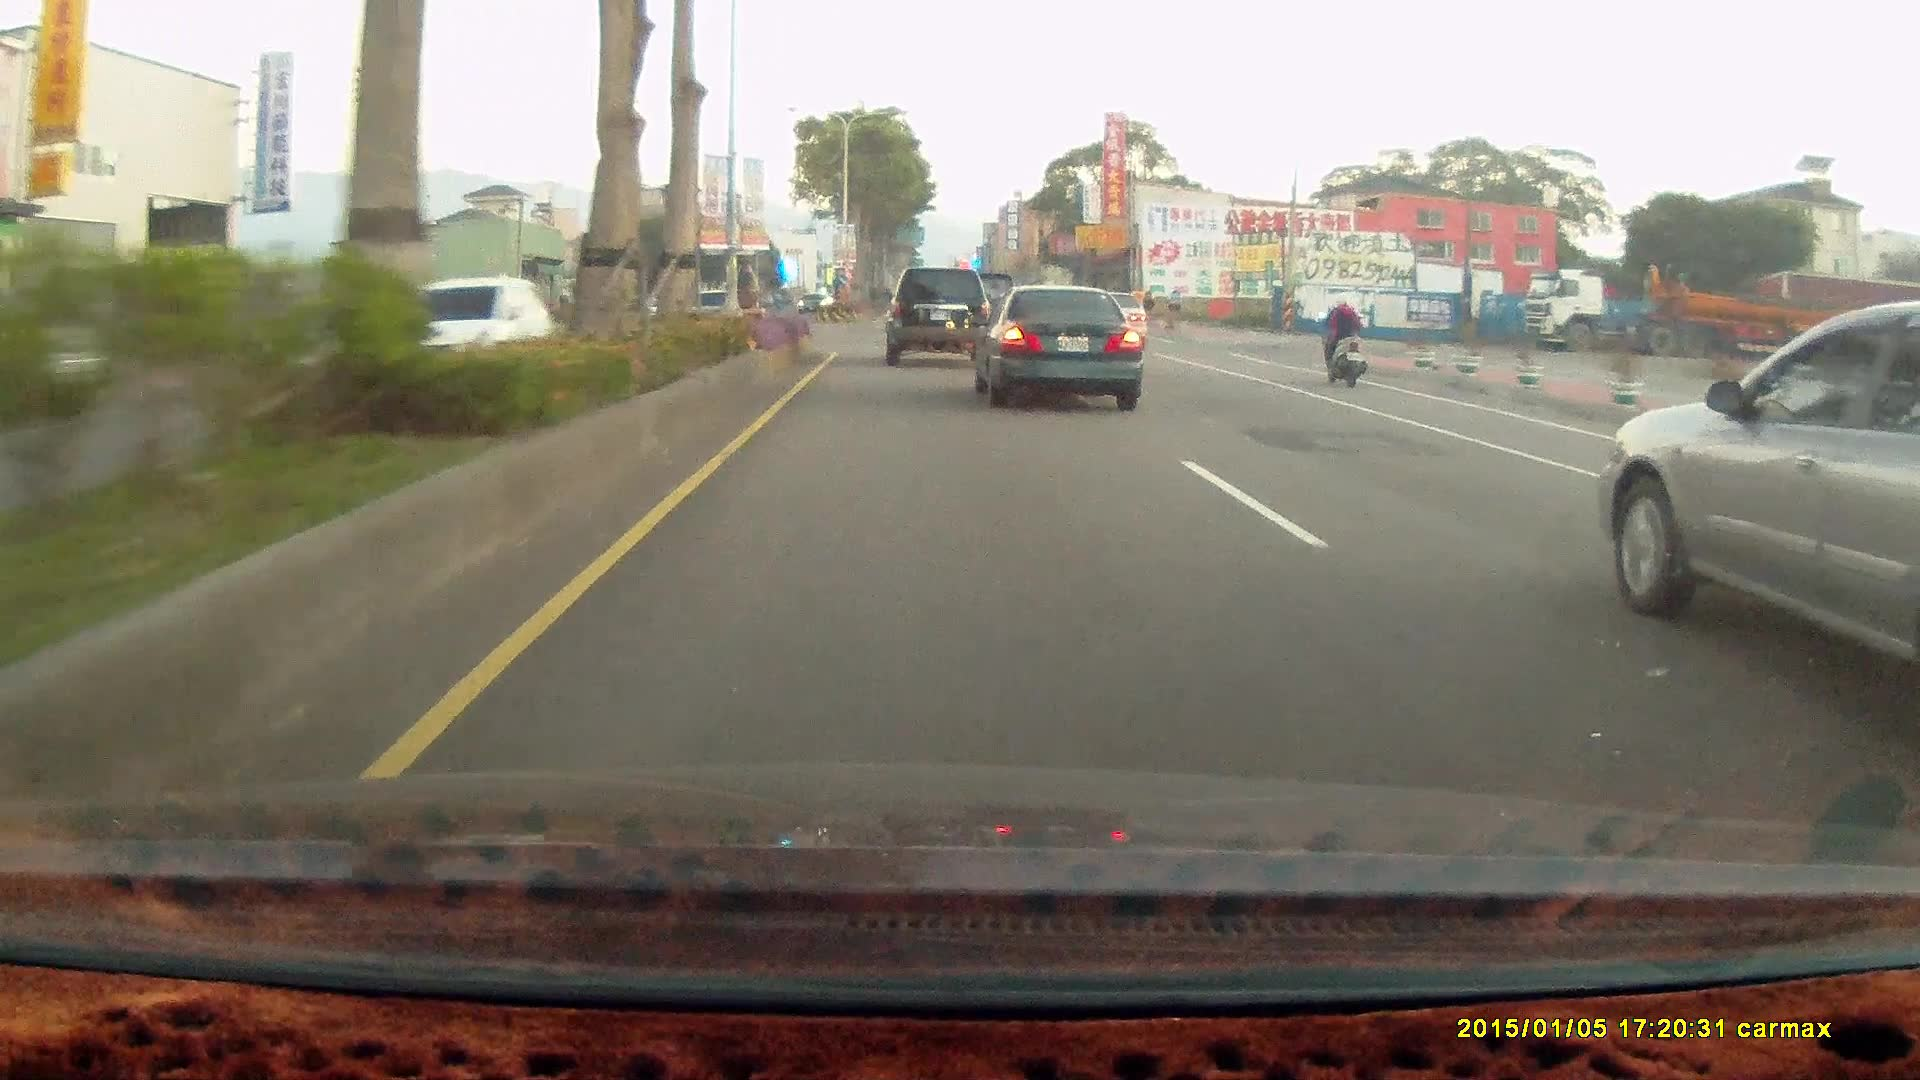rider: (1310, 287, 1377, 393), (1312, 292, 1368, 388)
vehicle: (1610, 297, 1920, 724), (1519, 264, 1892, 363), (967, 286, 1141, 413), (975, 290, 1144, 412), (385, 271, 558, 383), (886, 268, 995, 370), (884, 265, 992, 366)
